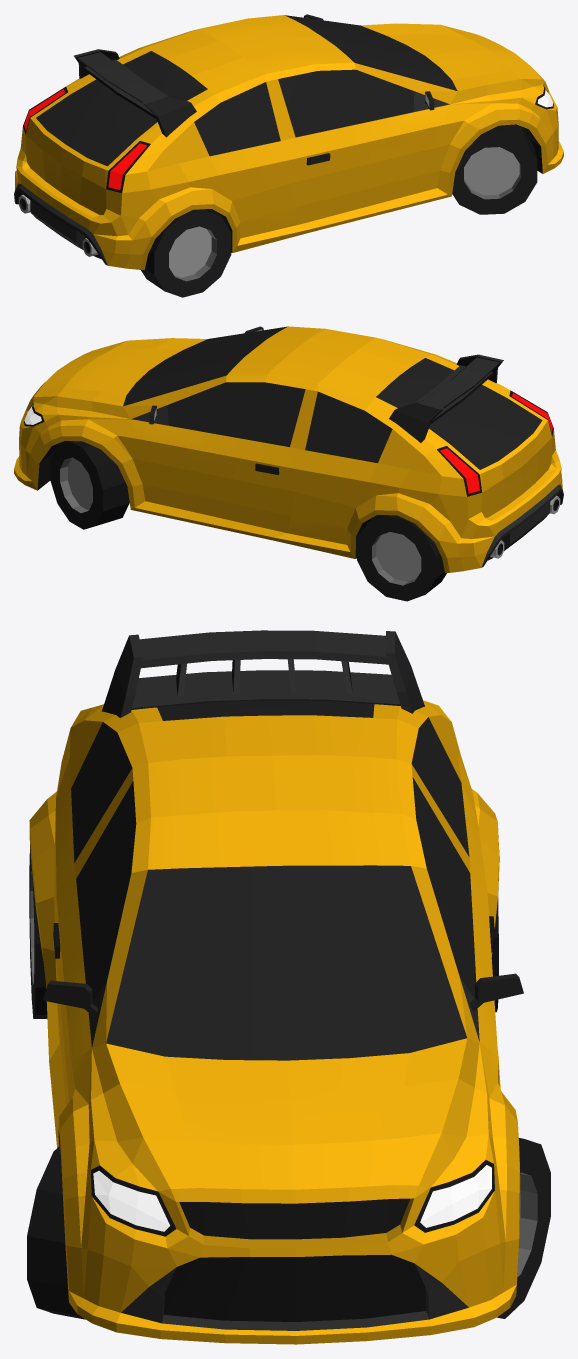
Rendered from RaceCar_037.glb.
3 renders of one model, top to bottom at view 1: azimuth 30°, elevation 25°; view 2: azimuth 150°, elevation 25°; view 3: azimuth 270°, elevation 25°, orthographic. The views are drawn at different scales.
Parts seen in each view (by area): view 1: RaceCar_037, wheel_0_RaceCar_037_Wheel_1R, wheel_2_RaceCar_037_Wheel_3R; view 2: RaceCar_037, wheel_3_RaceCar_037_Wheel_4L, wheel_1_RaceCar_037_Wheel_2L; view 3: RaceCar_037, wheel_0_RaceCar_037_Wheel_1R, wheel_1_RaceCar_037_Wheel_2L, wheel_2_RaceCar_037_Wheel_3R.
Part boxes in pixels (box(x1,y1,x2,y2)): RaceCar_037: box(14, 14, 563, 269); wheel_0_RaceCar_037_Wheel_1R: box(452, 124, 537, 214); wheel_2_RaceCar_037_Wheel_3R: box(141, 209, 231, 297); RaceCar_037: box(14, 326, 563, 572); wheel_3_RaceCar_037_Wheel_4L: box(357, 515, 446, 601); wheel_1_RaceCar_037_Wheel_2L: box(50, 441, 129, 529); RaceCar_037: box(29, 630, 523, 1344); wheel_0_RaceCar_037_Wheel_1R: box(27, 1145, 85, 1319); wheel_1_RaceCar_037_Wheel_2L: box(497, 1138, 550, 1318); wheel_2_RaceCar_037_Wheel_3R: box(29, 845, 47, 1018).
Bounding box in the file's own units: 4.74 × 1.65 × 2.22.
Materials: 3 (3 with a texture image).
